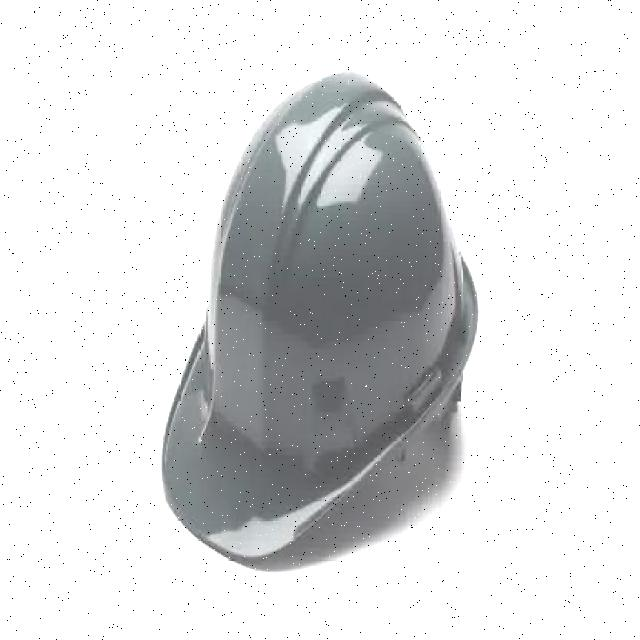Helmet: (160, 68, 480, 570)
